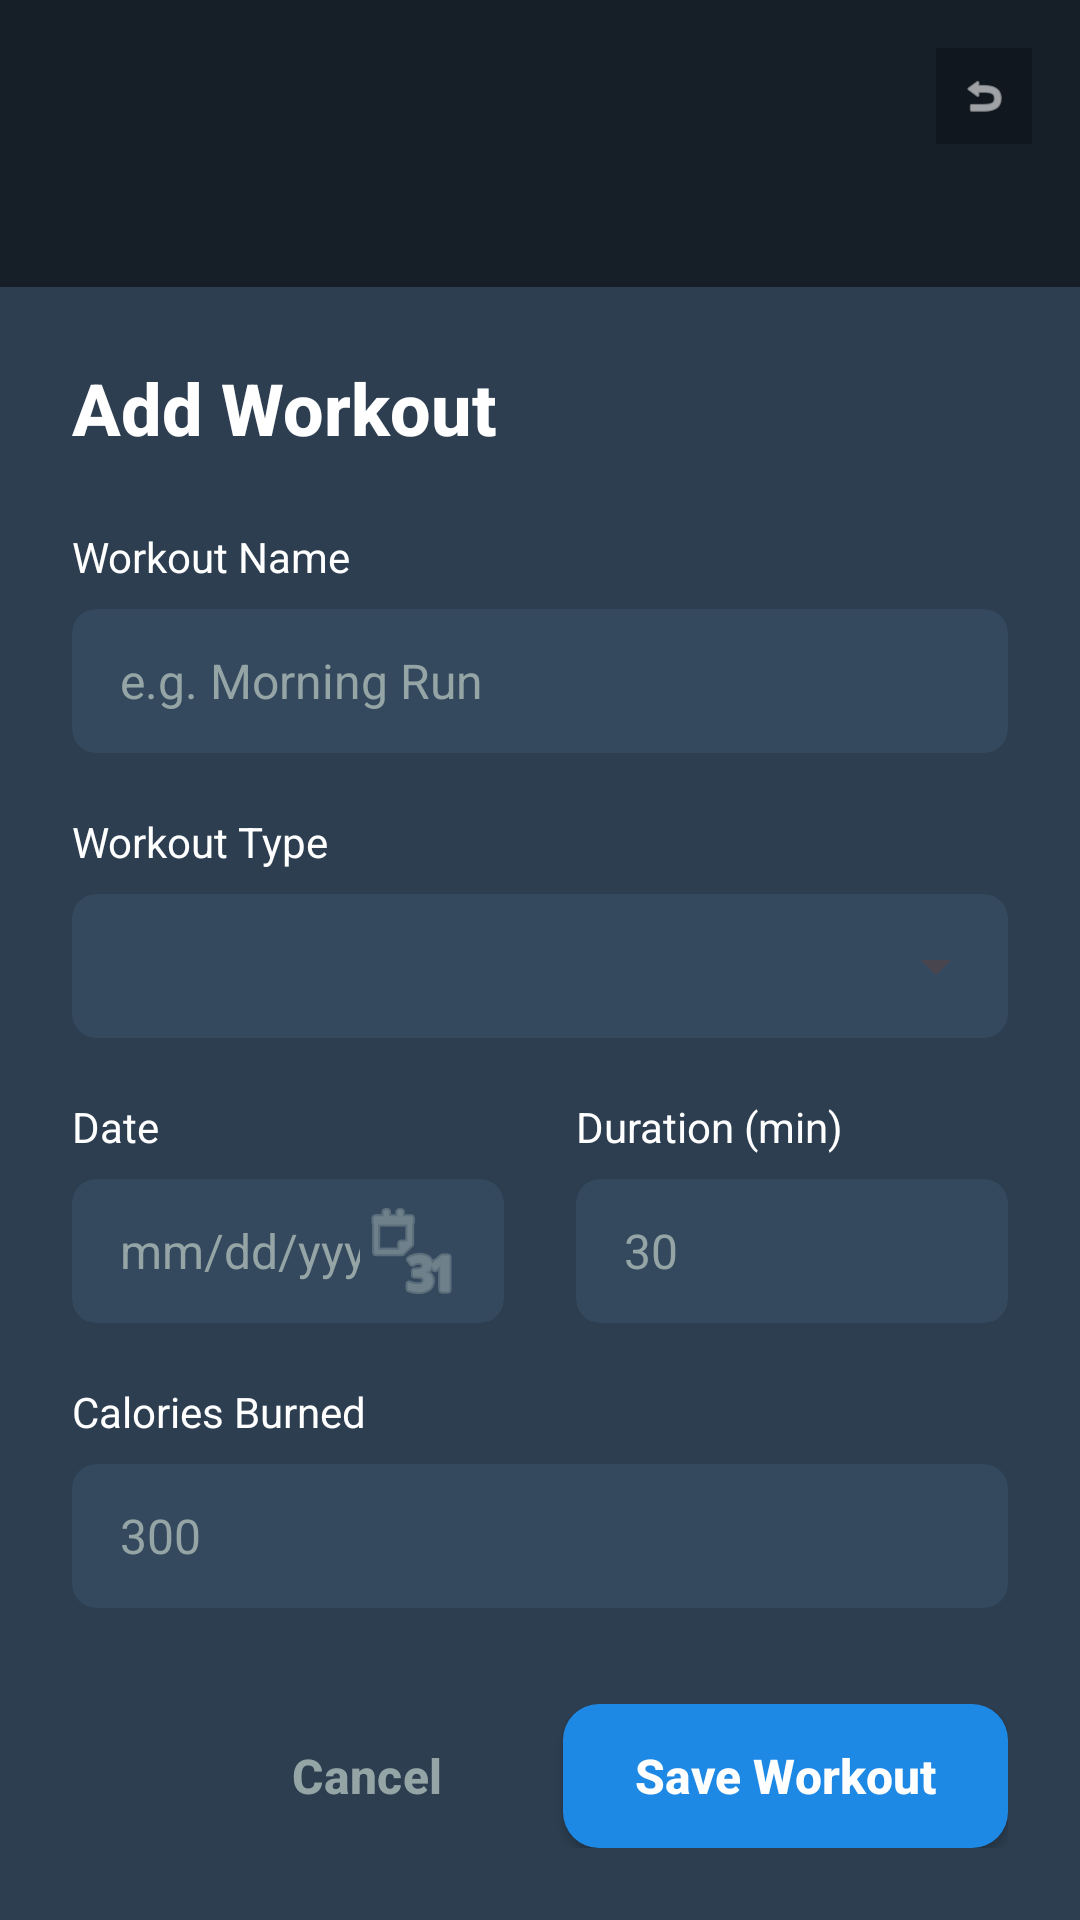

Where to tap for icons on this 1080px×1920px app screen, as point (x, y):
revert: point (984, 96)
